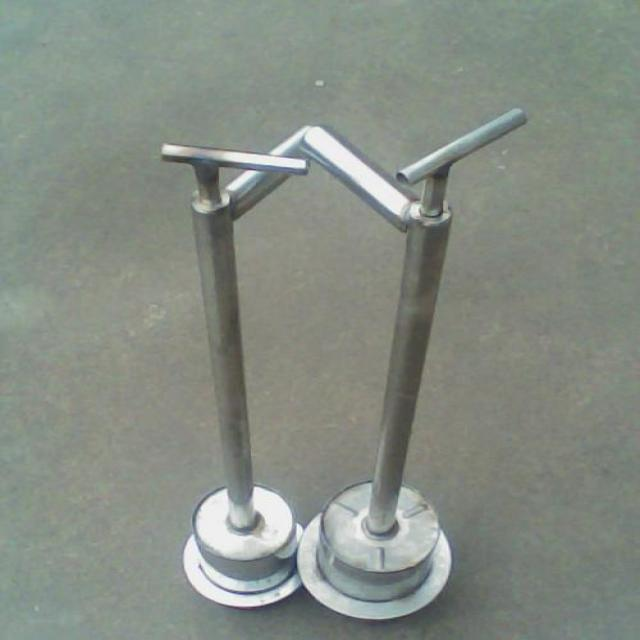recyclable: (160, 108, 524, 620)
